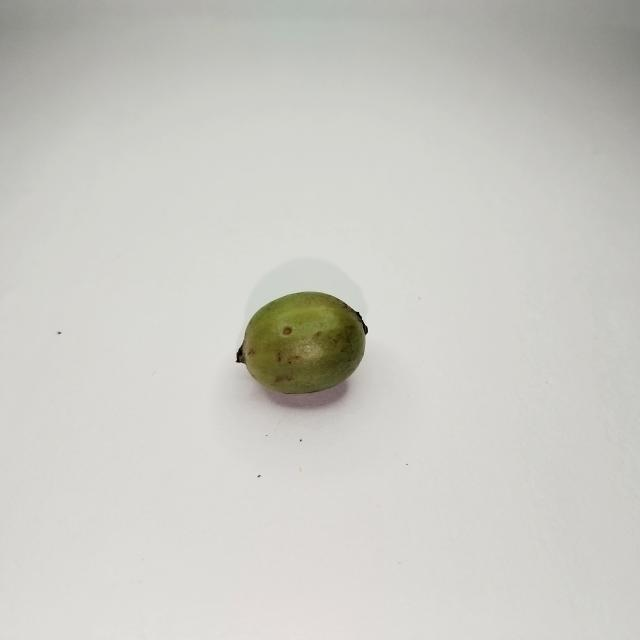Sano: (237, 292, 367, 394)
